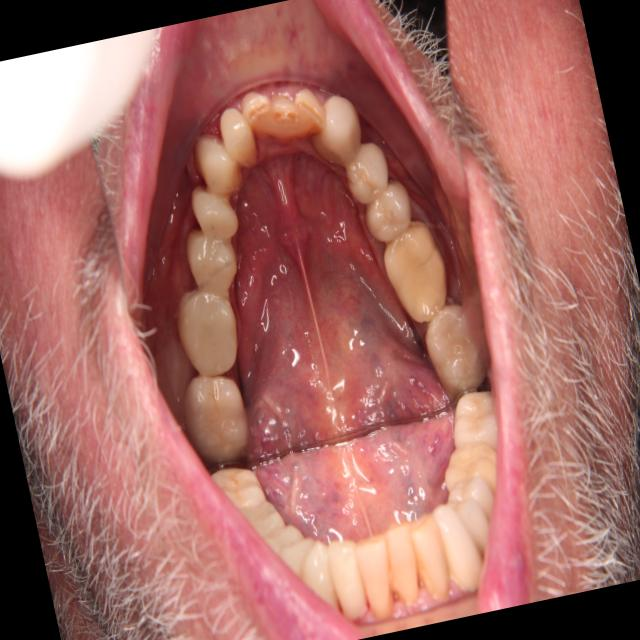tooth: (366, 209, 466, 340), (162, 269, 253, 388), (413, 293, 500, 410), (175, 359, 263, 474), (302, 75, 381, 191), (170, 211, 253, 310), (352, 170, 428, 261), (188, 122, 253, 211), (282, 68, 343, 162), (336, 128, 398, 212), (182, 176, 248, 253), (214, 98, 267, 185), (228, 72, 282, 157), (261, 78, 309, 151)
